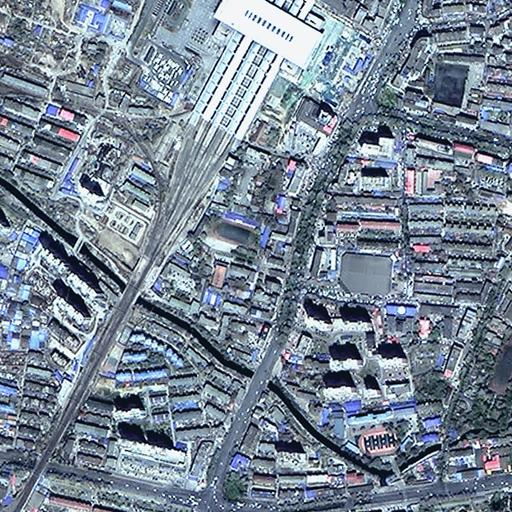school: (327, 399, 423, 459), (190, 211, 266, 256)
